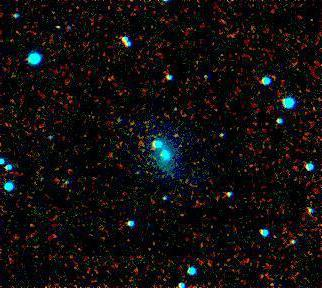star: (160, 118, 190, 148)
